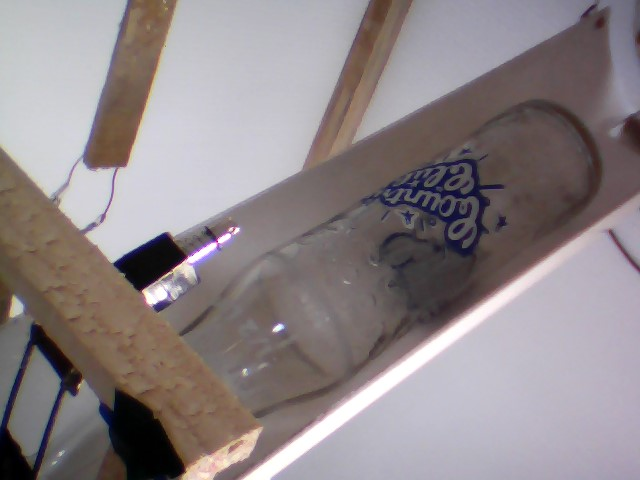vidrio: (170, 88, 607, 417)
